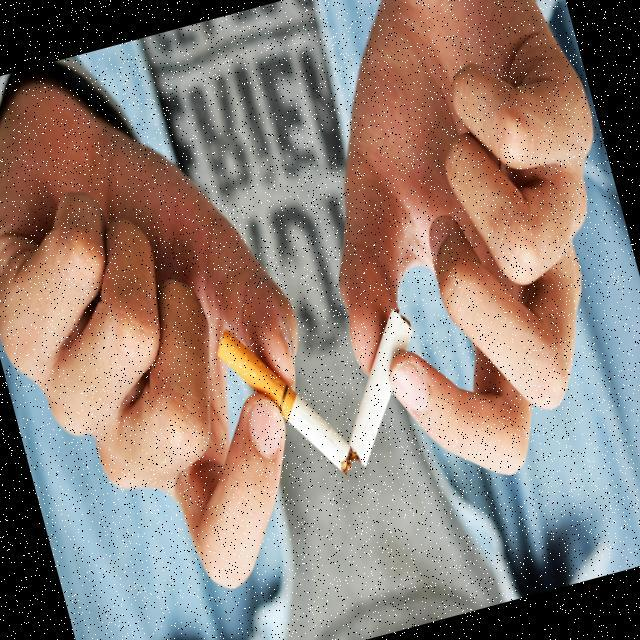cigarette: (213, 290, 452, 512)
